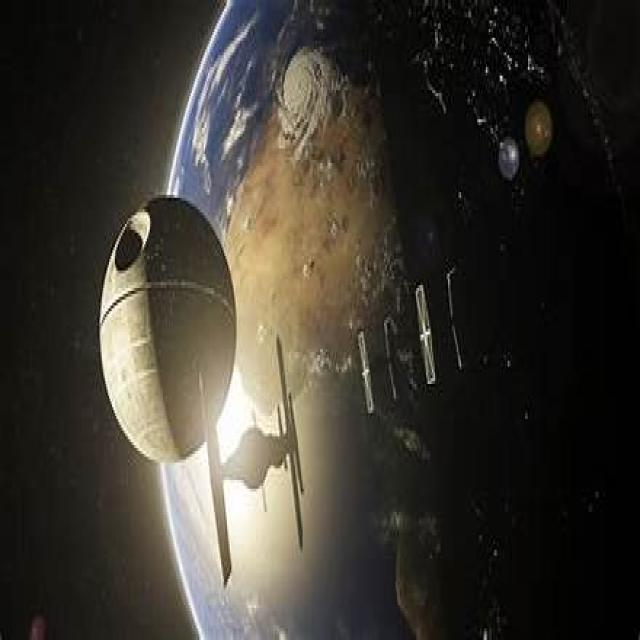deathStar: (102, 189, 237, 461)
